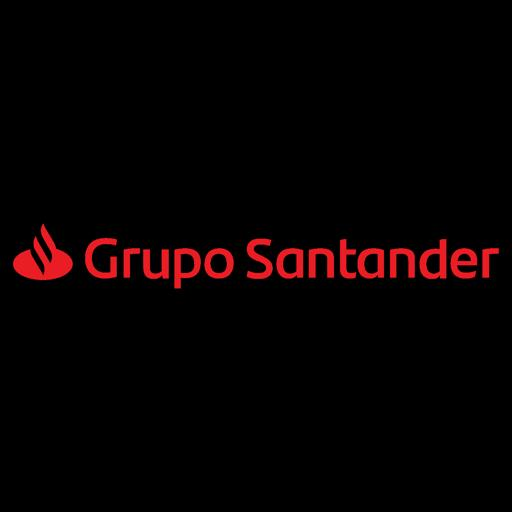Grupo Santander: (0, 214, 512, 298)
